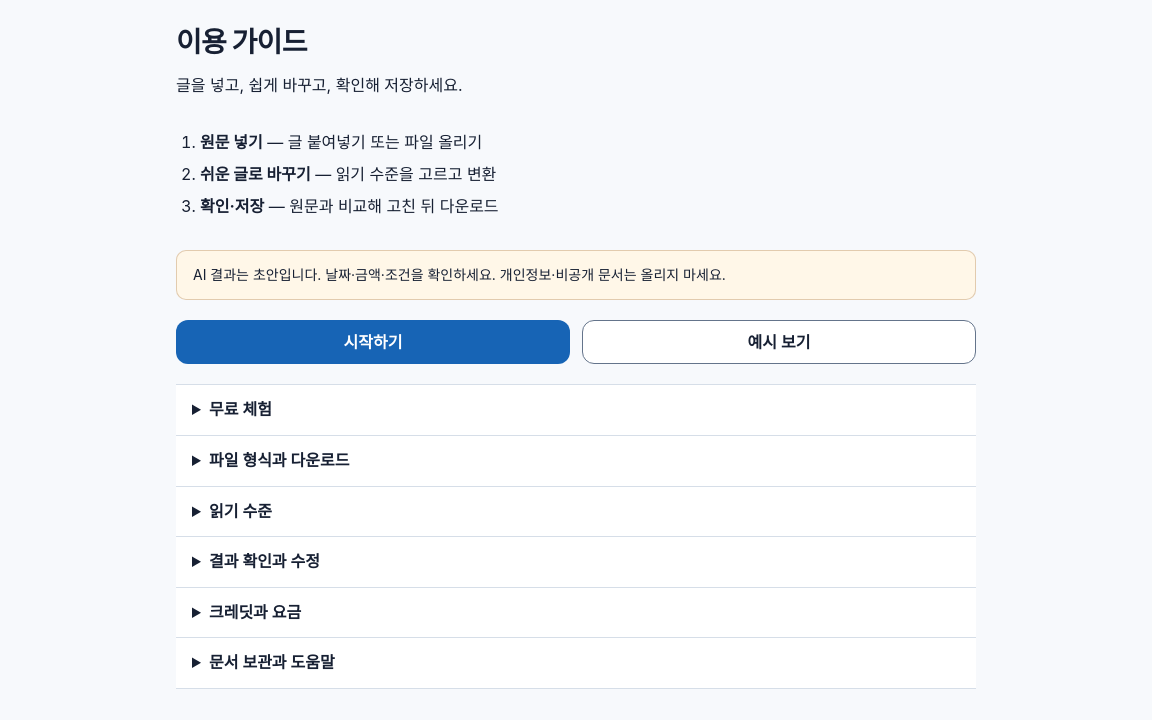
it: 간결한 이용 가이드 › 요금 도움말에 실제 가격과 재변환·갱신 조건을 보존한다
This screenshot has width=1152, height=720.
Step 1. Click the heading "크레딧과 요금" → (255, 612), box [209,602,301,622]
(page scrolled)
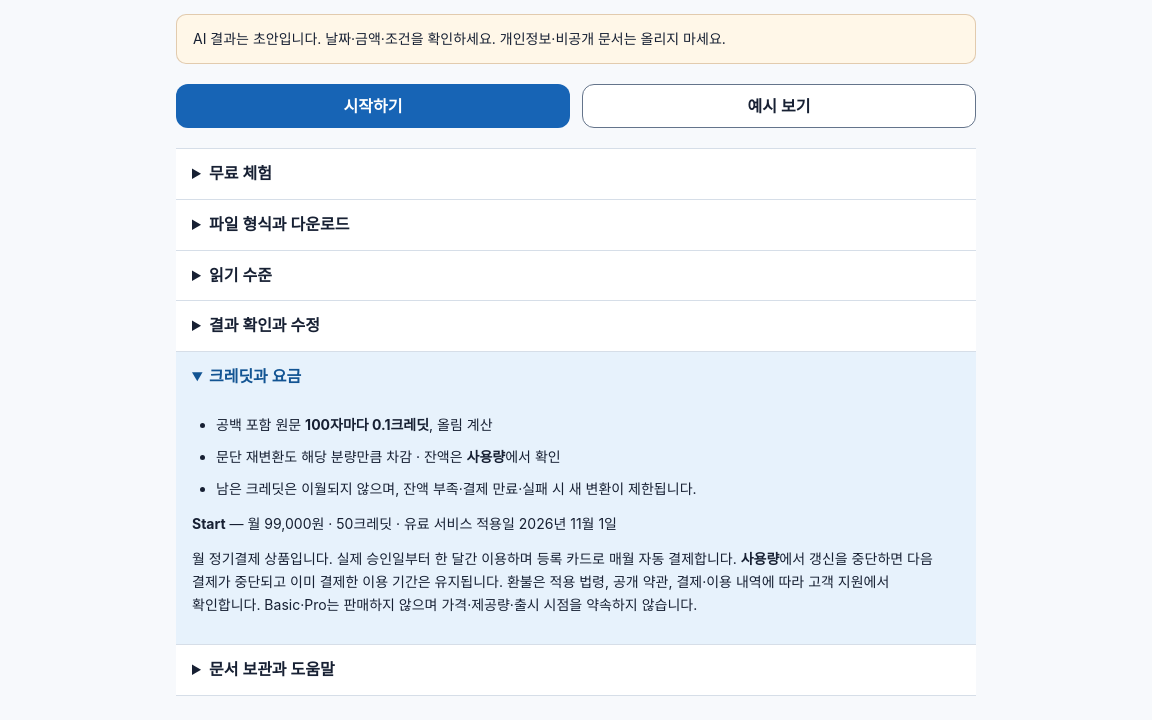
Check: the element that starts with "크레딧과 요금" shows "Start", box [192,515,226,532]
Check: the element that starts with "크레딧과 요금" shows "월 99,000원 · 50크레딧", box [226,515,617,532]
Check: the element that starts with "크레딧과 요금" shows "2026년 11월 1일", box [226,515,617,532]
